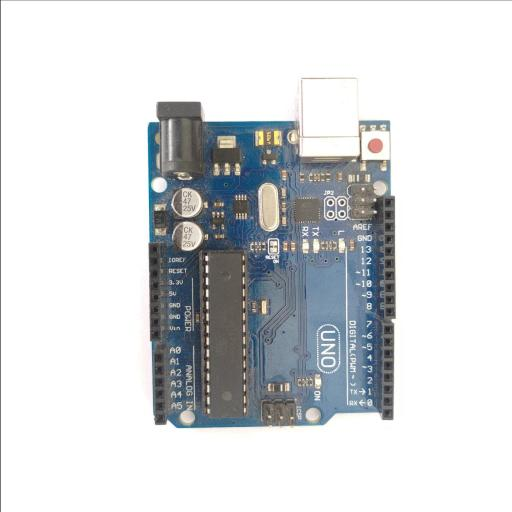Arduino Uno R3: (146, 81, 397, 429)
